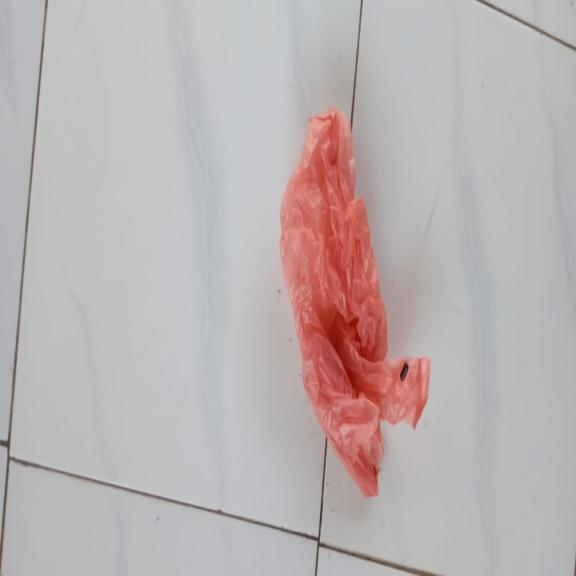Plastik: (279, 108, 431, 499)
